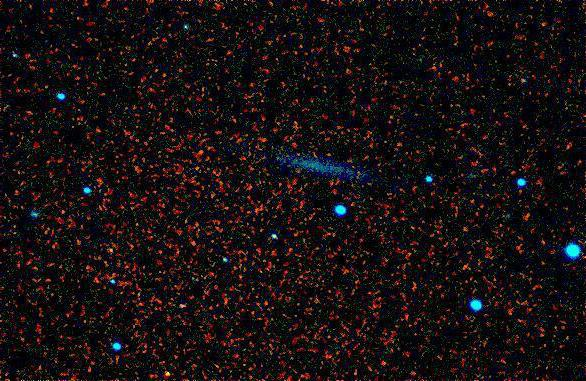star: (151, 358, 181, 381)
